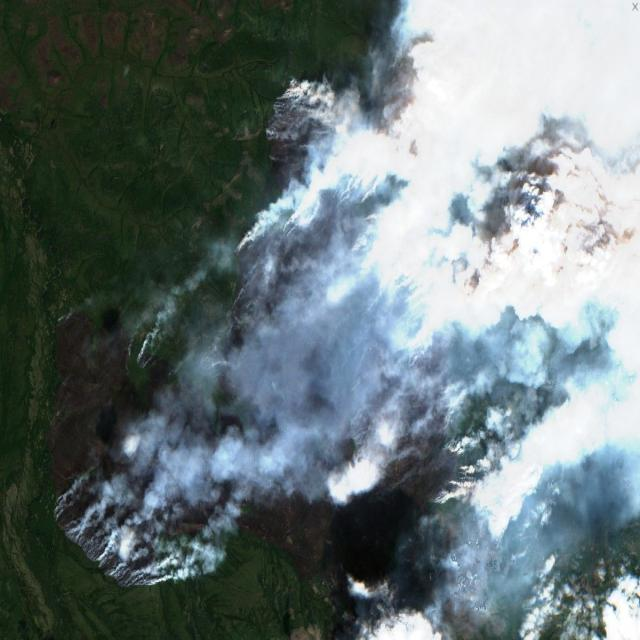fire: (49, 78, 491, 640)
